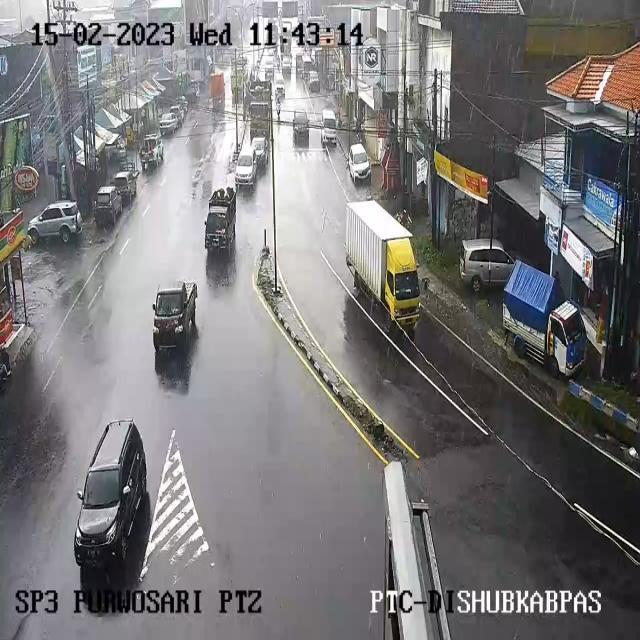Car: (72, 418, 144, 576), (152, 280, 197, 350), (458, 238, 513, 293), (27, 202, 82, 246), (92, 186, 124, 226), (234, 144, 258, 187), (111, 169, 139, 204), (139, 134, 165, 170), (347, 143, 370, 182), (320, 109, 338, 142), (292, 111, 310, 143), (251, 136, 269, 167), (158, 112, 179, 134), (169, 105, 186, 125), (305, 71, 320, 92), (302, 52, 314, 76), (262, 57, 276, 77), (176, 96, 189, 116), (274, 76, 285, 96), (281, 54, 292, 73)
Motorbike: (275, 99, 282, 118)
Truck: (346, 202, 424, 326), (503, 264, 586, 379), (203, 186, 237, 252), (250, 83, 270, 138), (208, 71, 226, 109), (232, 61, 244, 92)
